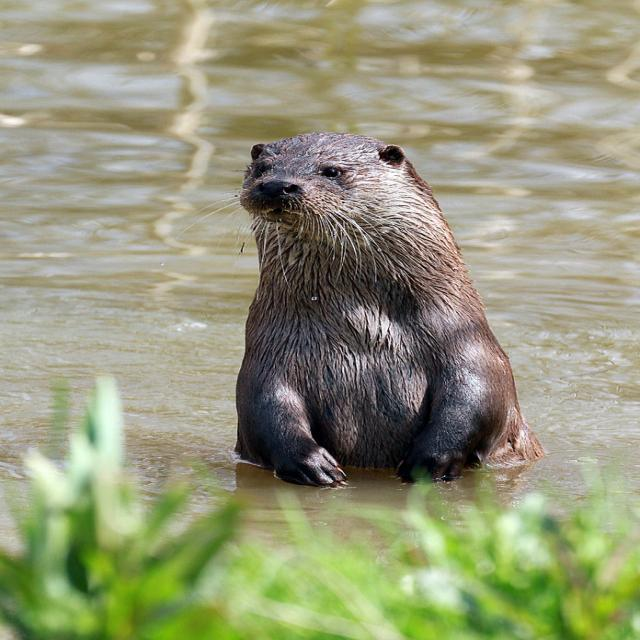otter: (240, 134, 515, 486)
